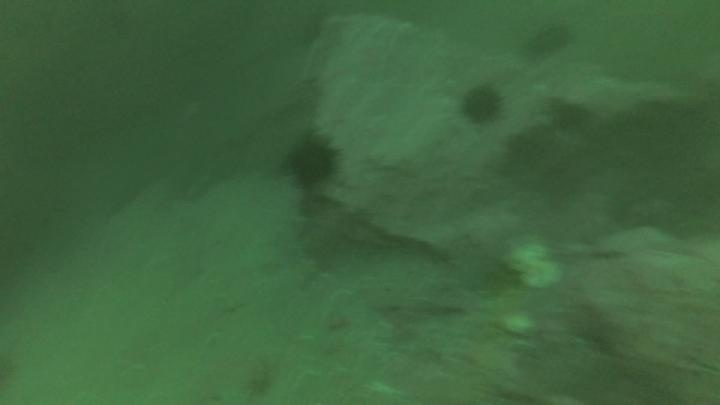echinus: (284, 131, 342, 191), (522, 20, 574, 59), (459, 82, 505, 126)
